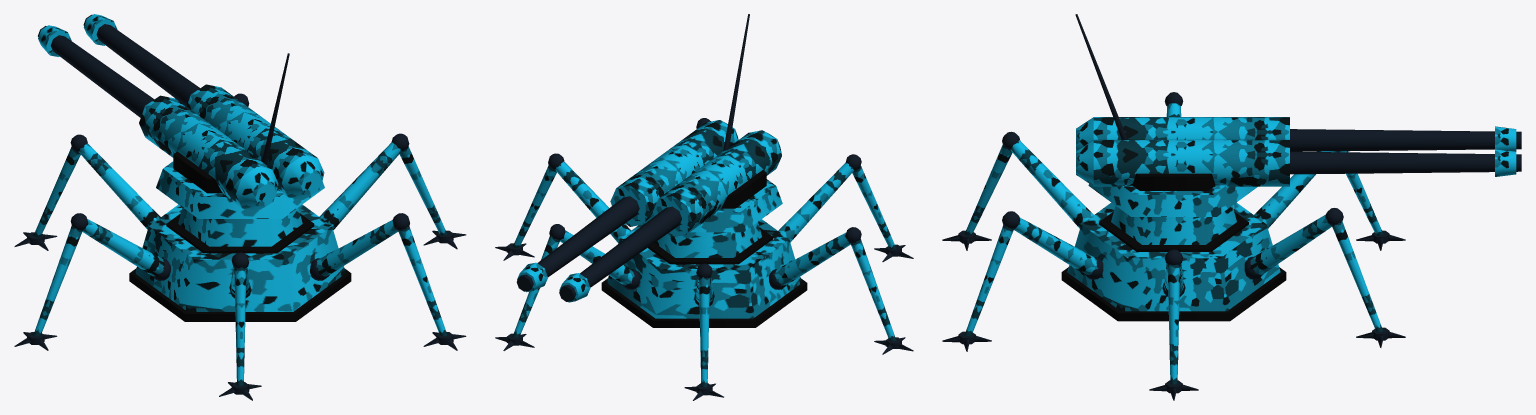
File: lurcher.glb
3 renders of one model, left to right at view 1: azimuth 30°, elevation 25°; view 2: azimuth 150°, elevation 25°; view 3: azimuth 270°, elevation 25°, orthographic. The views are drawn at different scales.
Size of the model in its own units: 2.96 by 1.72 by 3.25.
Materials: 3 (1 with a texture image).
